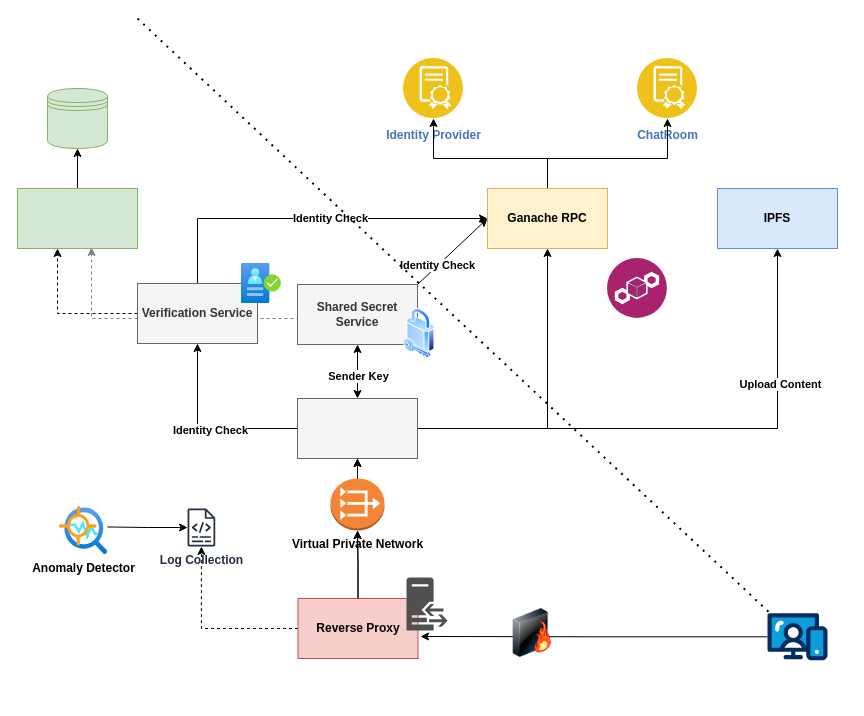
This 864x716 diagram has some shape labels left out. The shapes that lost their labels are listed below. From the top down, each one's centre as x and y in pixels, then its label:
At (77,218): "MongoDB".
At (637,288): "Blockchain".
At (357,428): "React Application".
At (532,632): "Network Firewall".
At (797,636): "User Desktop/Browser".
